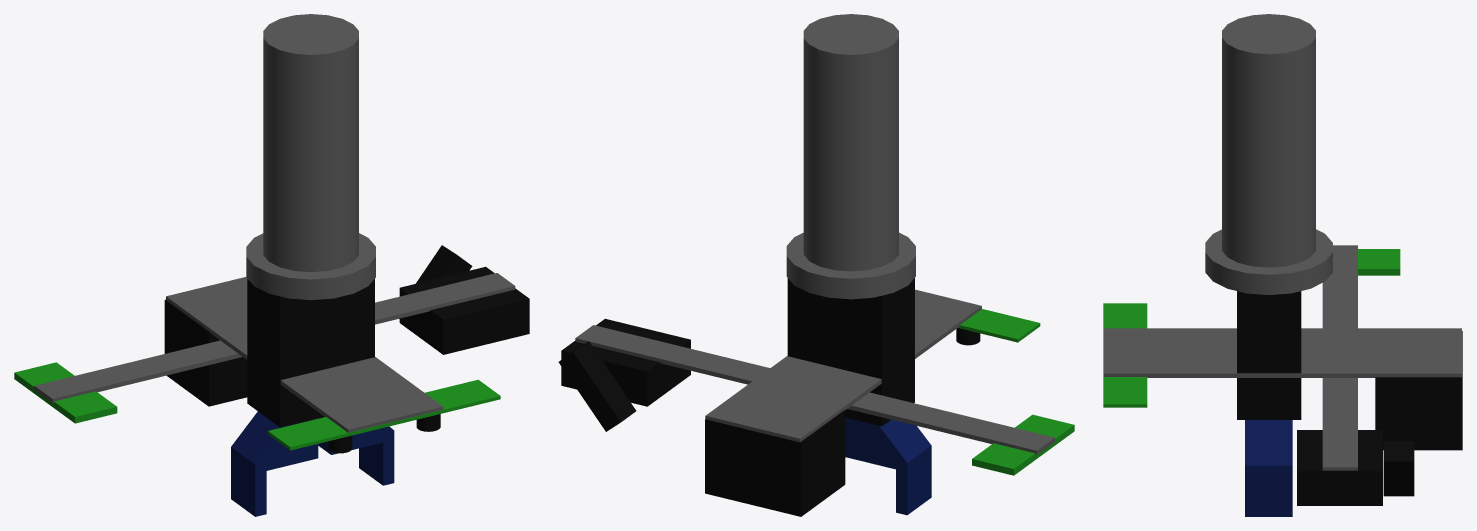
Rendered from tool.FBX.
3 renders of one model, left to right at view 1: azimuth 30°, elevation 25°; view 2: azimuth 150°, elevation 25°; view 3: azimuth 270°, elevation 25°, orthographic.
Visible parts, largest first — view 1: Cylinder001, Box001, Box002, Box010, Box012, Cylinder002, Box009, Box003, Box004, Box011, Box005, Box013; view 2: Cylinder001, Box001, Box002, Box003, Box010, Box009, Cylinder002, Box012, Box013, Box011, Box004; view 3: Cylinder001, Box002, Box001, Box003, Box010, Box012, Box005, Cylinder002, Box004, Box013, Box011.
Part boxes in pixels (left/top/right/bottom): Cylinder001: left=263, top=14, right=358, bottom=272; Box001: left=247, top=279, right=374, bottom=427; Box002: left=166, top=277, right=443, bottom=432; Box010: left=34, top=273, right=515, bottom=403; Box012: left=399, top=266, right=529, bottom=354; Cylinder002: left=246, top=233, right=375, bottom=300; Box009: left=231, top=411, right=318, bottom=516; Box003: left=164, top=299, right=247, bottom=406; Box004: left=268, top=379, right=500, bottom=450; Box011: left=14, top=362, right=117, bottom=423; Box005: left=318, top=417, right=394, bottom=485; Box013: left=399, top=245, right=472, bottom=318; Cylinder001: left=803, top=14, right=898, bottom=271; Box001: left=787, top=278, right=914, bottom=426; Box002: left=705, top=289, right=981, bottom=442; Box003: left=705, top=410, right=845, bottom=516; Box010: left=575, top=325, right=1054, bottom=454; Box009: left=845, top=417, right=931, bottom=515; Cylinder002: left=786, top=232, right=915, bottom=299; Box012: left=561, top=318, right=690, bottom=406; Box013: left=558, top=341, right=636, bottom=431; Box011: left=972, top=414, right=1074, bottom=475; Box004: left=958, top=309, right=1040, bottom=342; Cylinder001: left=1222, top=14, right=1315, bottom=267; Box002: left=1104, top=328, right=1461, bottom=377; Box001: left=1237, top=291, right=1301, bottom=419; Box003: left=1375, top=331, right=1462, bottom=450; Box010: left=1322, top=245, right=1357, bottom=470; Box012: left=1297, top=430, right=1382, bottom=505; Box005: left=1245, top=420, right=1292, bottom=516; Cylinder002: left=1205, top=229, right=1332, bottom=294; Box004: left=1103, top=303, right=1147, bottom=407; Box013: left=1383, top=441, right=1414, bottom=496; Box011: left=1358, top=249, right=1400, bottom=275.
Size of the model in its own units: 22.06 by 15.05 by 20.75.
